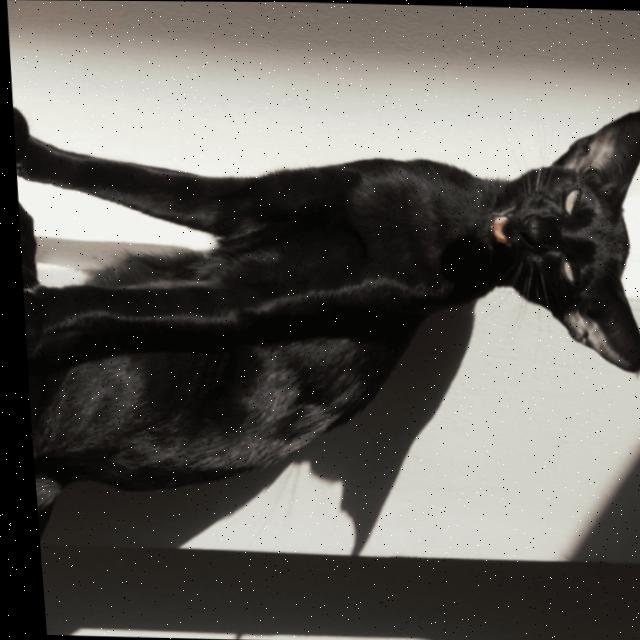Oriental: (5, 86, 640, 597)
